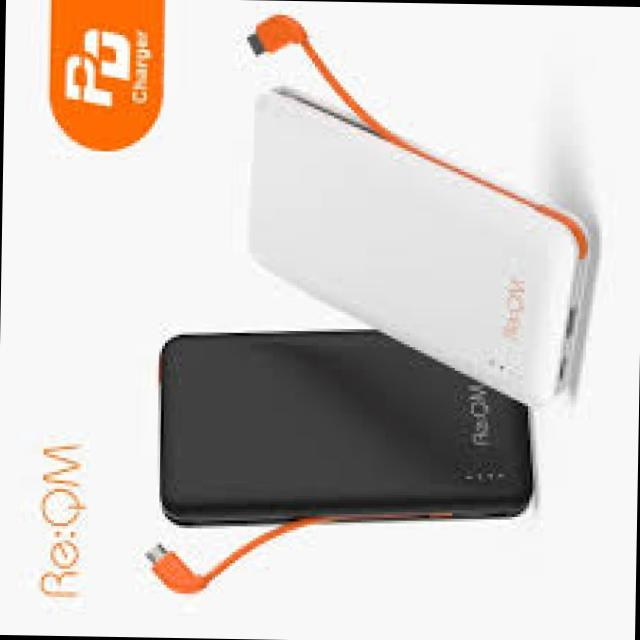power_bank: (244, 81, 599, 407), (155, 321, 538, 532)
